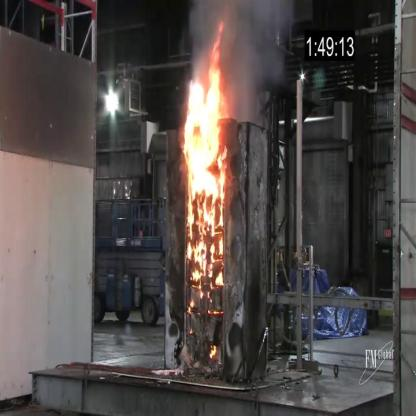fire: (180, 25, 229, 292), (208, 338, 218, 360)
